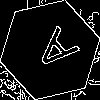A: (25, 25, 80, 81)
